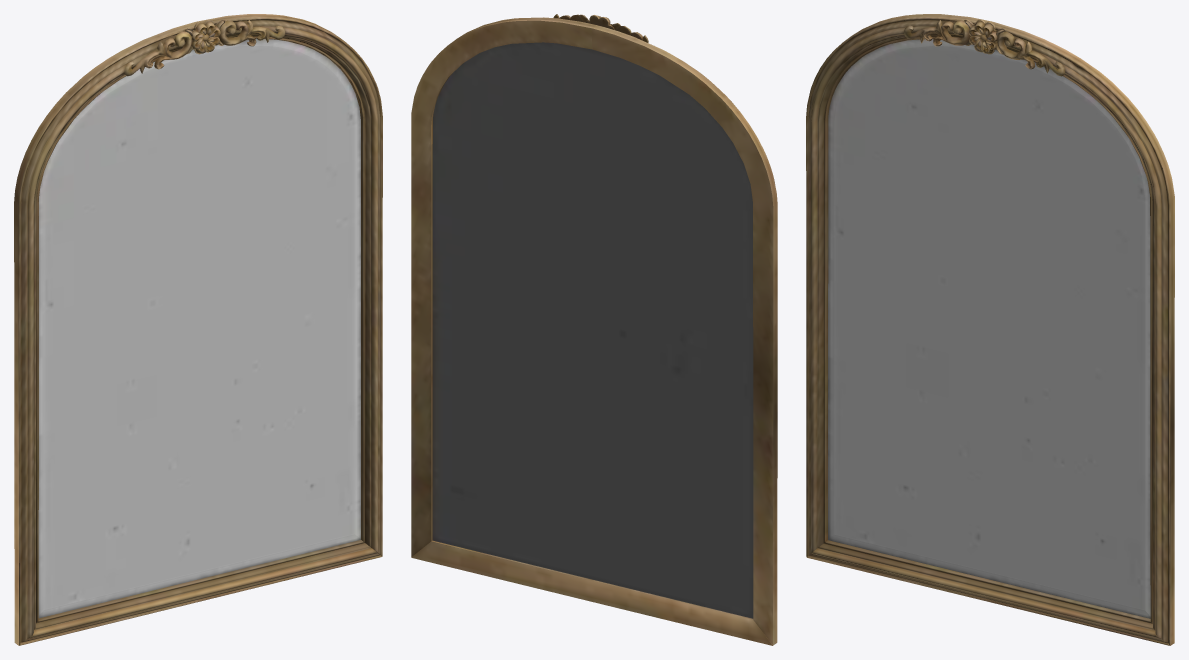
The model's file is ornate_mirror_01.glb.
3 views of the same model, side by side, from view 1: azimuth 30°, elevation 25°; view 2: azimuth 150°, elevation 25°; view 3: azimuth 330°, elevation 25° (orthographic).
Visible parts, largest first — view 1: ornate_mirror_01; view 2: ornate_mirror_01; view 3: ornate_mirror_01.
Boxes of the visible parts, <box> form: ornate_mirror_01: <box>14,14,382,645</box>; ornate_mirror_01: <box>411,14,777,645</box>; ornate_mirror_01: <box>806,14,1174,645</box>.
Size of the model in its own units: 0.4865 by 0.7442 by 0.026.
1 material, 1 textured.
